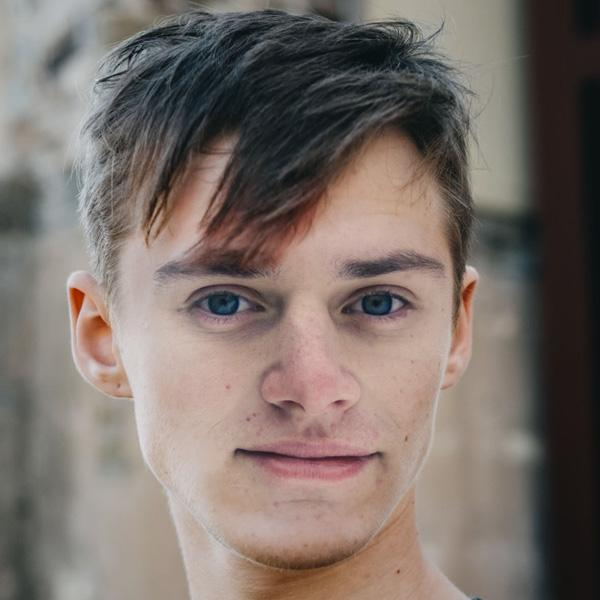Eyes: (175, 275, 277, 335), (335, 279, 424, 331)
